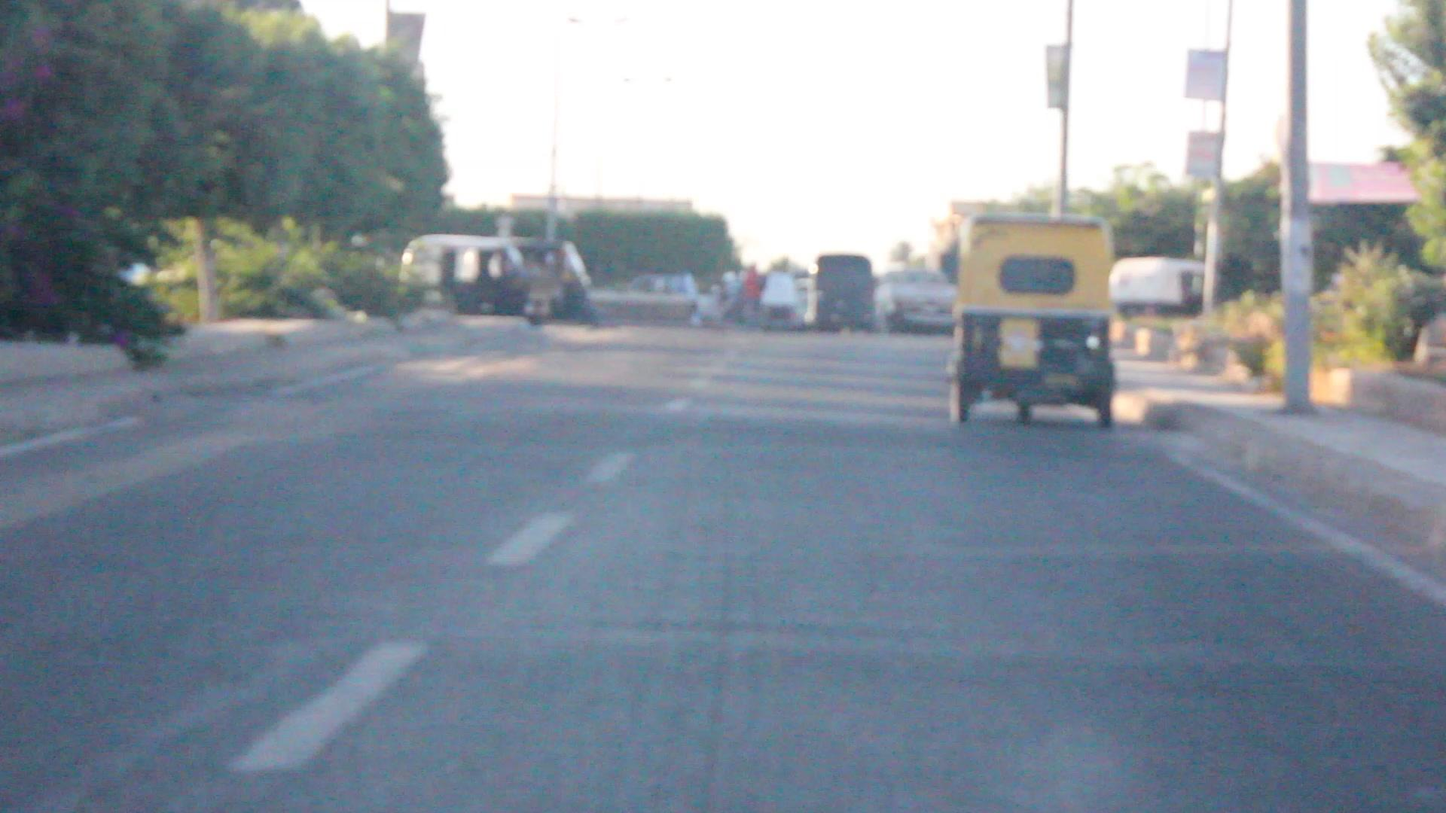Bump: (124, 391, 1212, 459)
